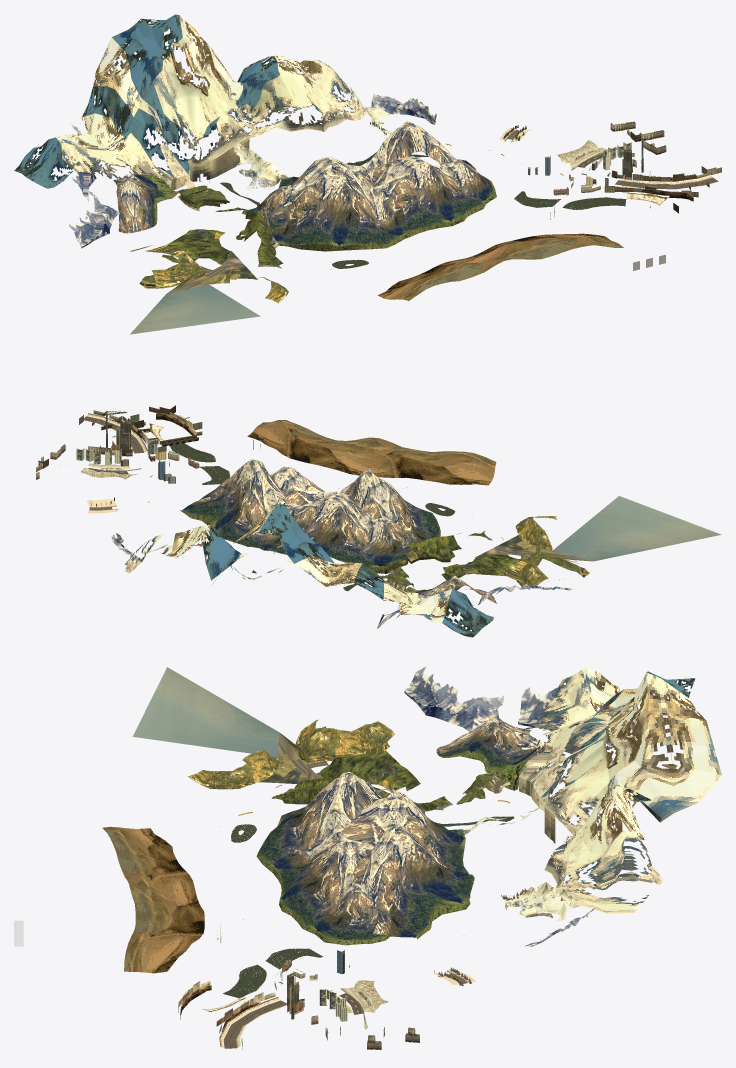
Rendered from track-EU_C2_V1_env.glb.
3 views of the same model, one above another, from view 1: azimuth 30°, elevation 25°; view 2: azimuth 150°, elevation 25°; view 3: azimuth 270°, elevation 25° (orthographic). The views are drawn at different scales.
Parts seen in each view (by area): view 1: EU_C2_V1_env; view 2: EU_C2_V1_env; view 3: EU_C2_V1_env.
Part boxes in pixels (bbox=[...]): EU_C2_V1_env: bbox=[14, 14, 721, 334]; EU_C2_V1_env: bbox=[36, 405, 721, 637]; EU_C2_V1_env: bbox=[14, 666, 721, 1049].
Size of the model in its own units: 4786 by 986 by 3857.
Materials: 52 (51 with a texture image).
